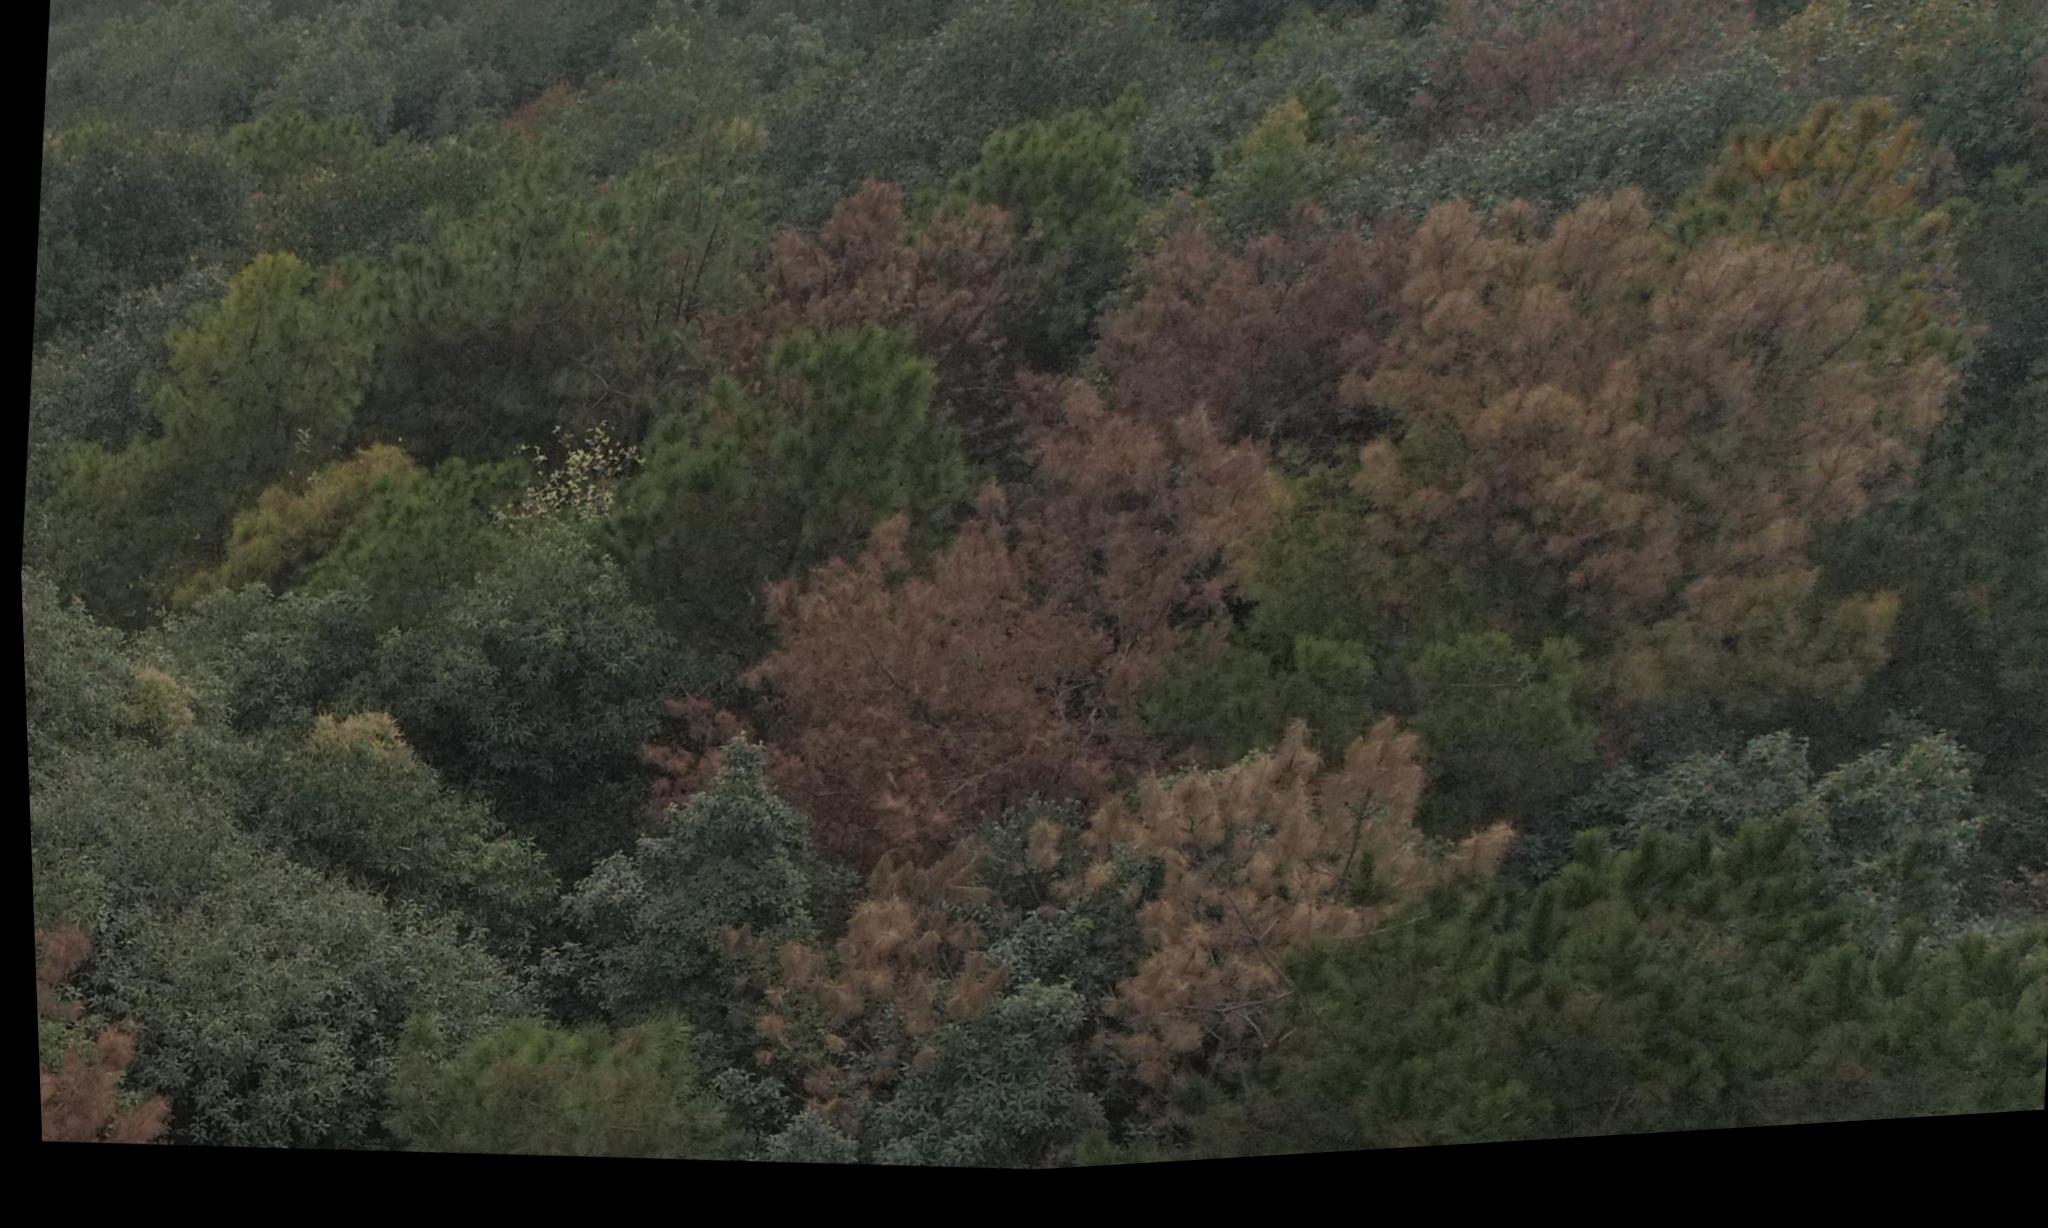heavy: (1376, 146, 2048, 784), (655, 485, 1199, 920), (1168, 748, 1532, 1121), (1050, 208, 1405, 544), (639, 137, 1026, 422), (1374, 0, 1810, 183)
